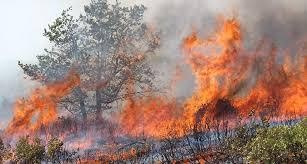fire: (117, 15, 307, 136), (0, 70, 79, 154)
